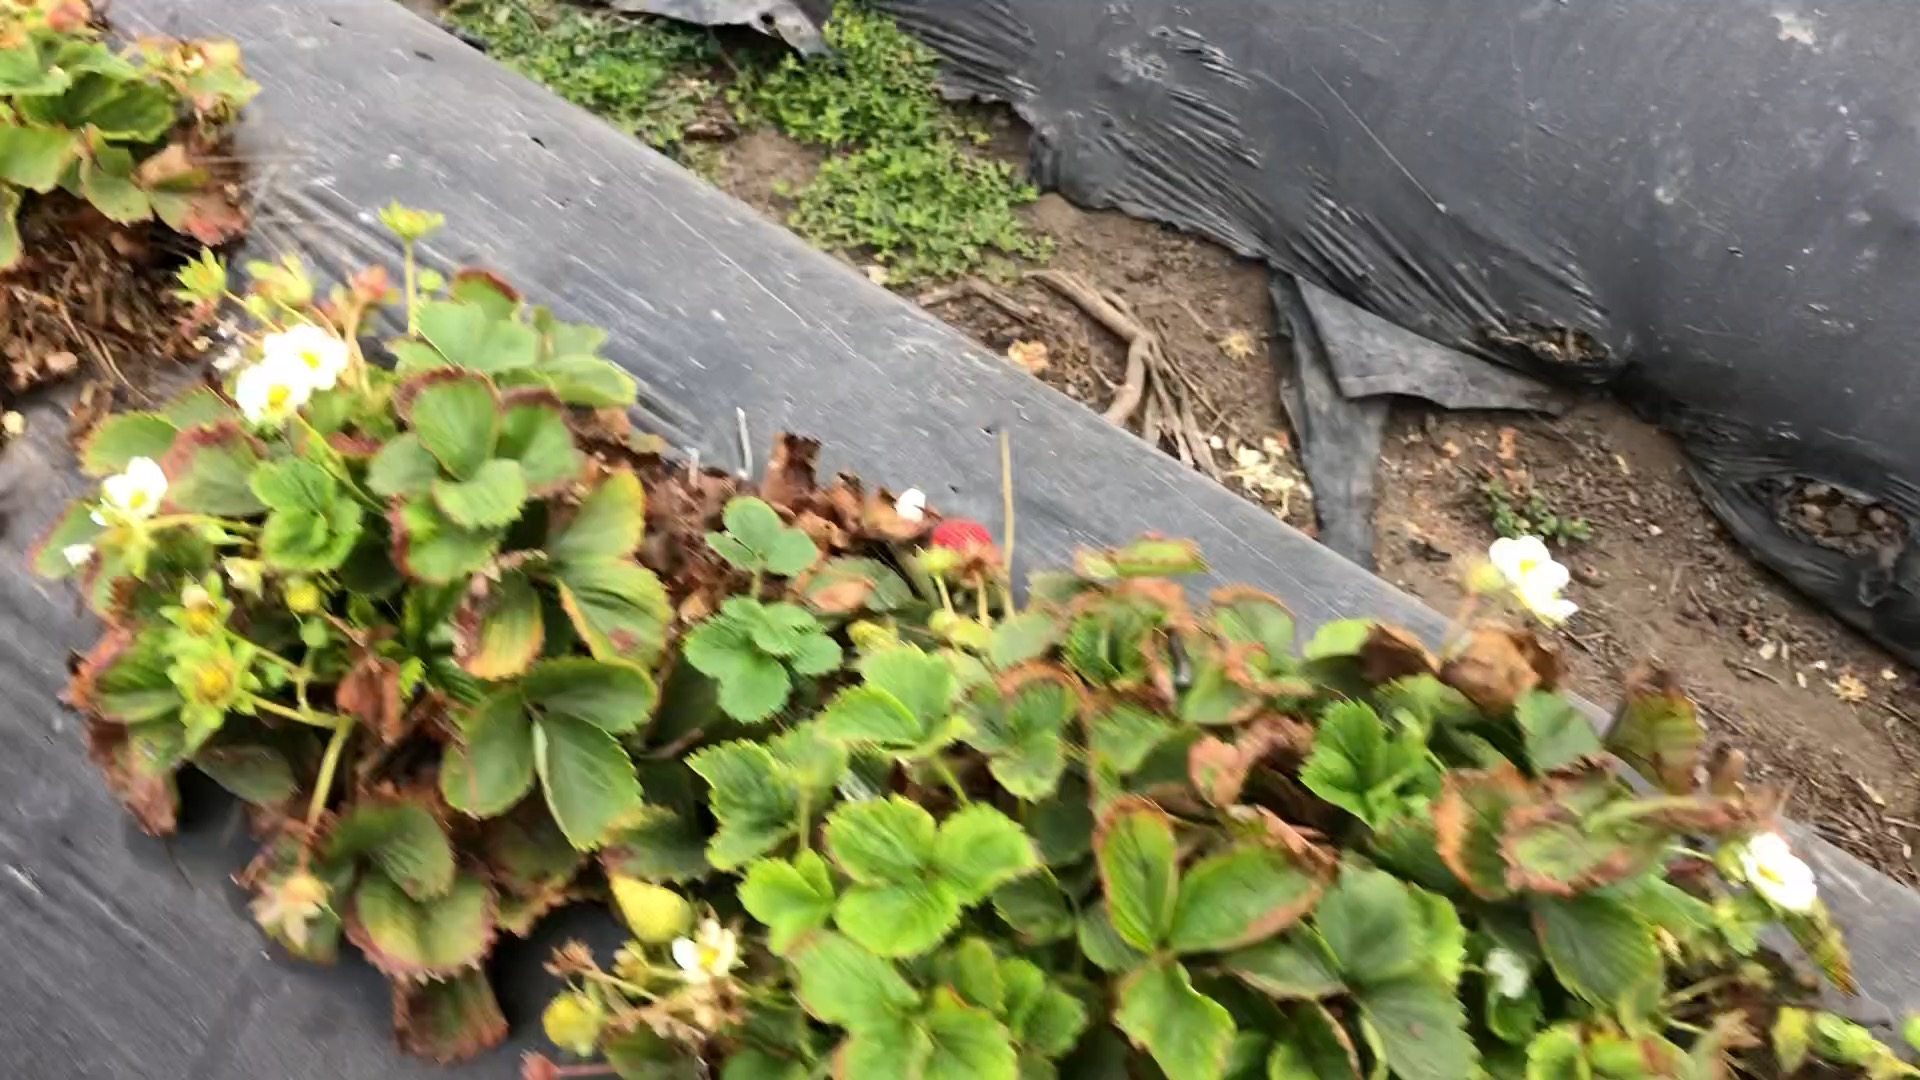unripe_strawberry: (607, 872, 695, 945), (541, 992, 604, 1054)
